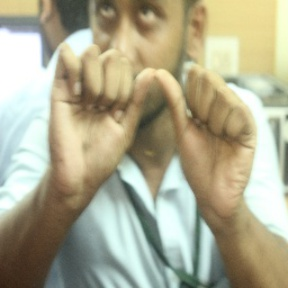A: (62, 43, 250, 195)
